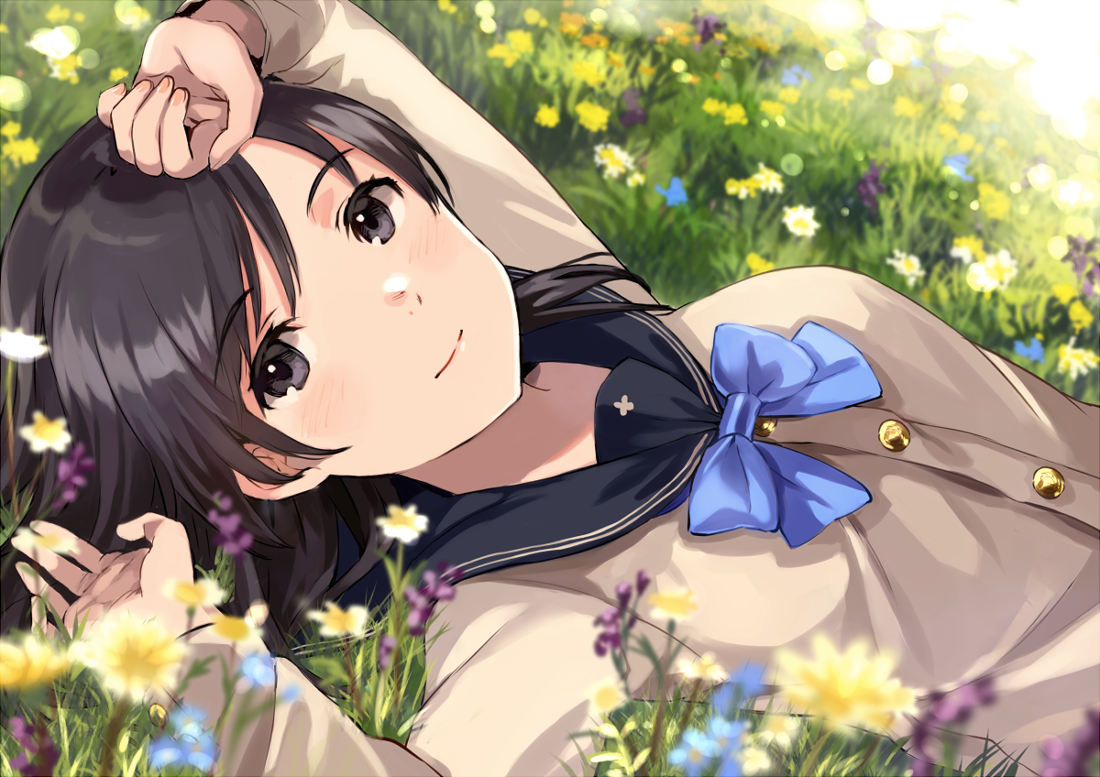纸片人正脸: (140, 54, 538, 479)
